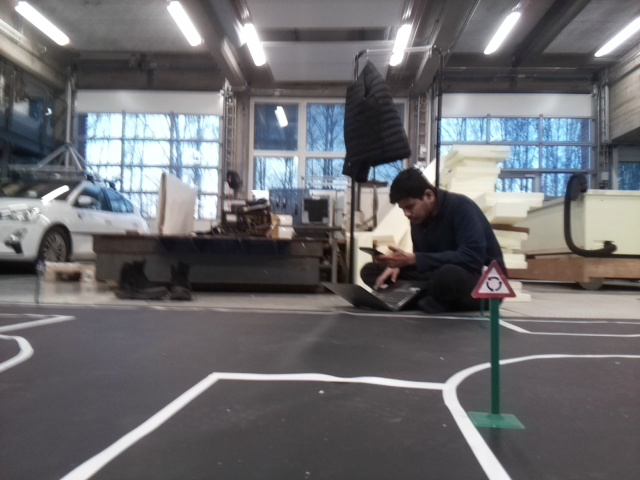Roundabout: (471, 260, 515, 295)
